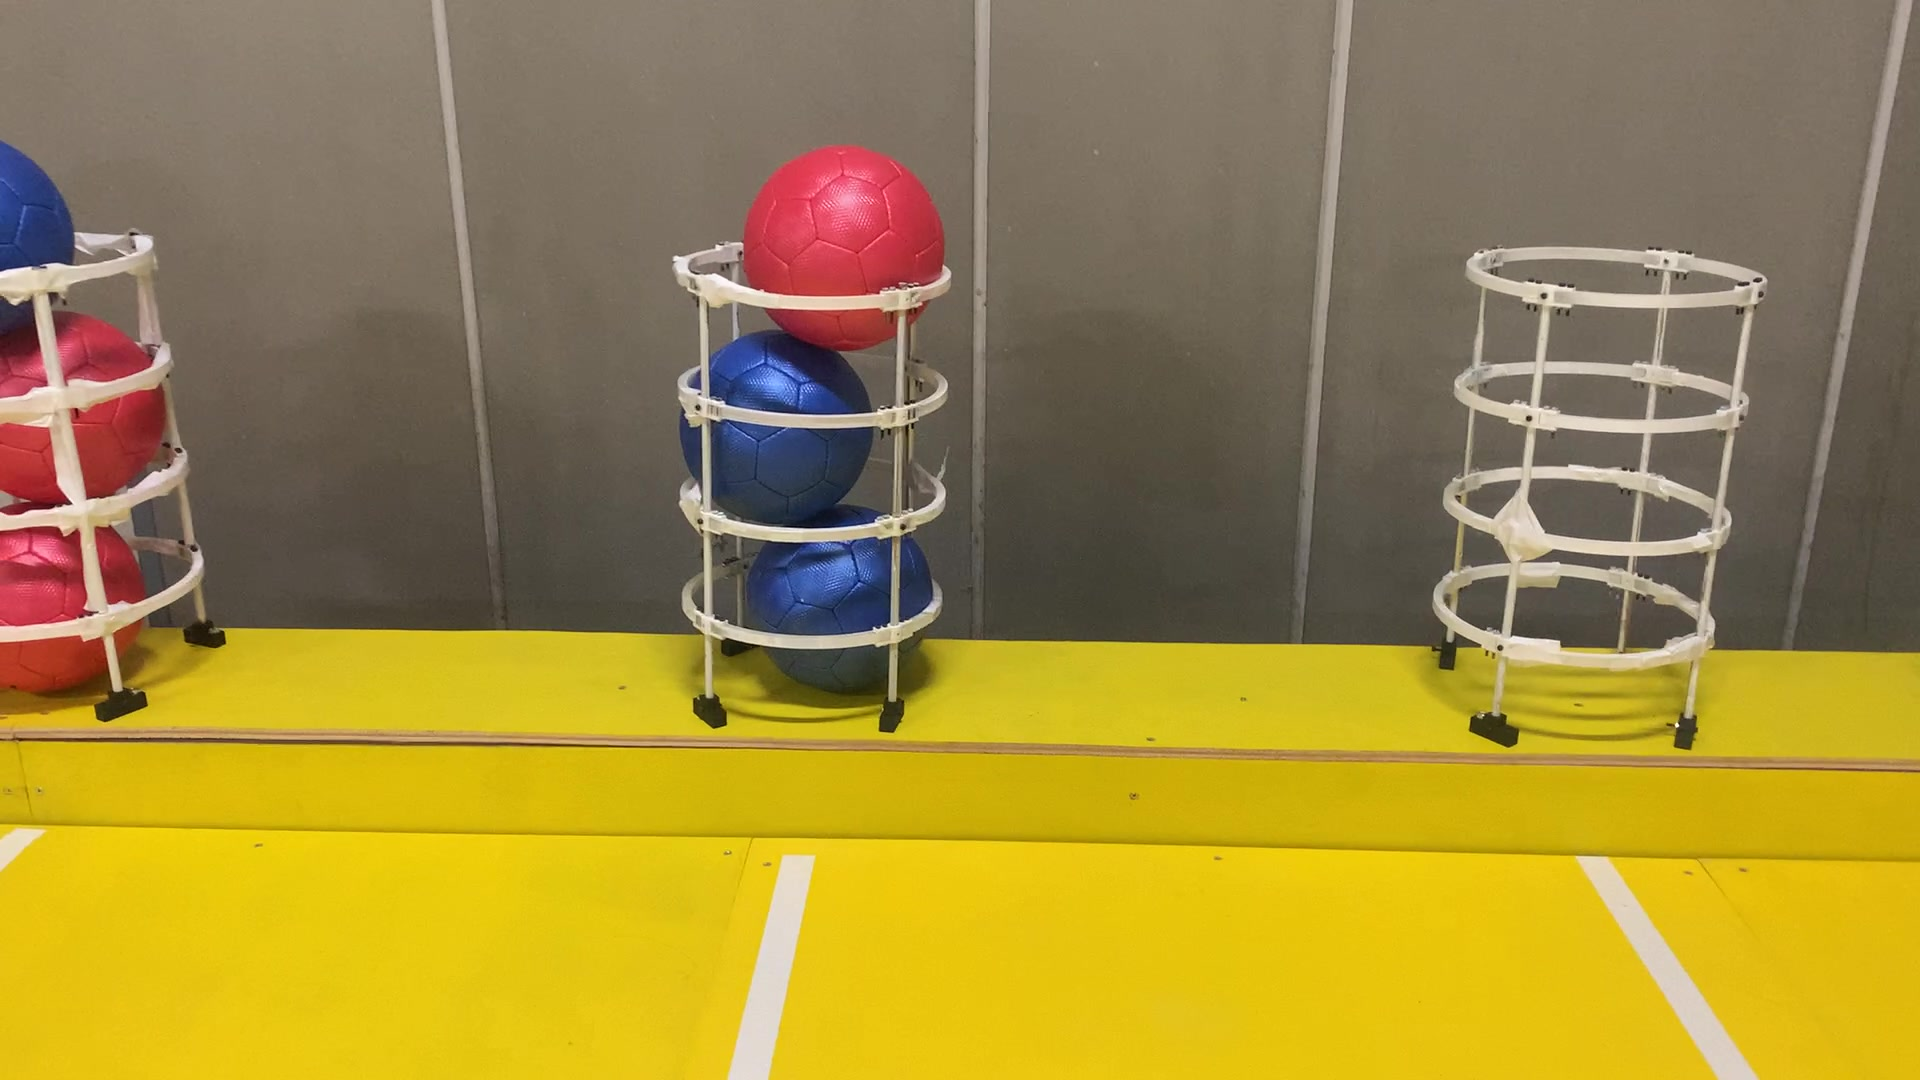blue: (674, 336, 887, 527), (746, 498, 926, 691), (0, 128, 78, 347)
red: (749, 144, 956, 348), (0, 294, 175, 520), (0, 487, 153, 691)
